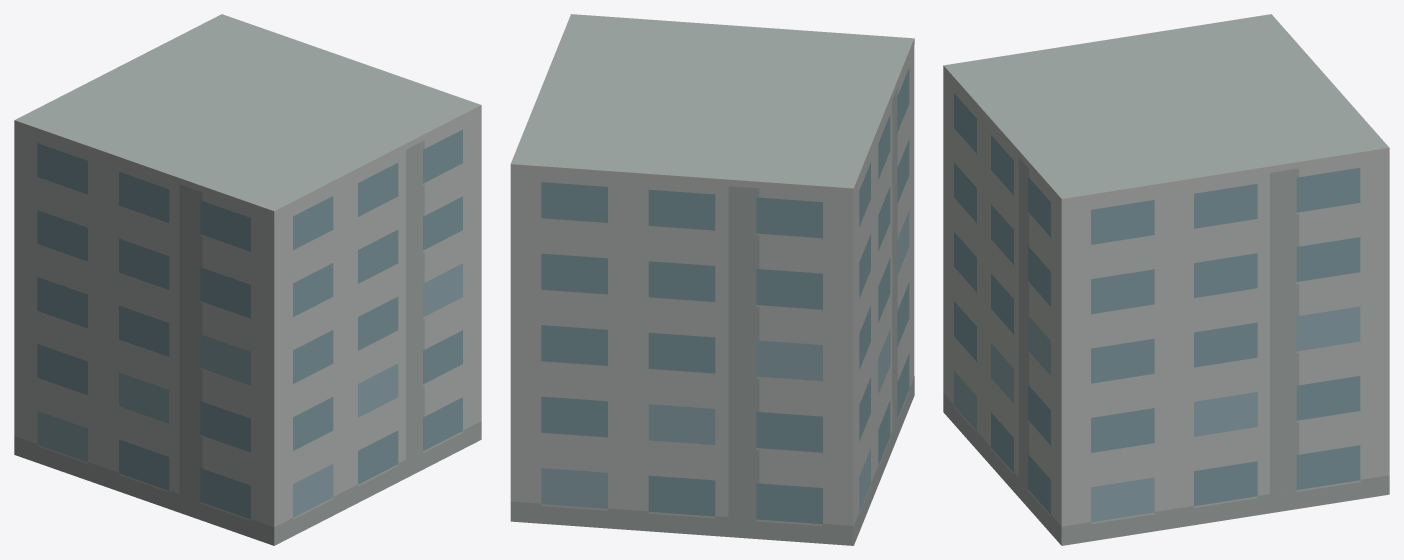
The model's file is survey-upis-33047627.glb.
3 renders of one model, left to right at view 1: azimuth 30°, elevation 25°; view 2: azimuth 150°, elevation 25°; view 3: azimuth 270°, elevation 25°, orthographic. The views are drawn at different scales.
Visible parts, largest first — view 1: survey-upis-33047627.tmp; view 2: survey-upis-33047627.tmp; view 3: survey-upis-33047627.tmp.
Part boxes in pixels (x1,y1,x2,y2): survey-upis-33047627.tmp: (14, 14, 481, 545); survey-upis-33047627.tmp: (510, 14, 914, 545); survey-upis-33047627.tmp: (943, 14, 1389, 545).
Bounding box in the file's own units: 15 × 13.1 × 15.28.
